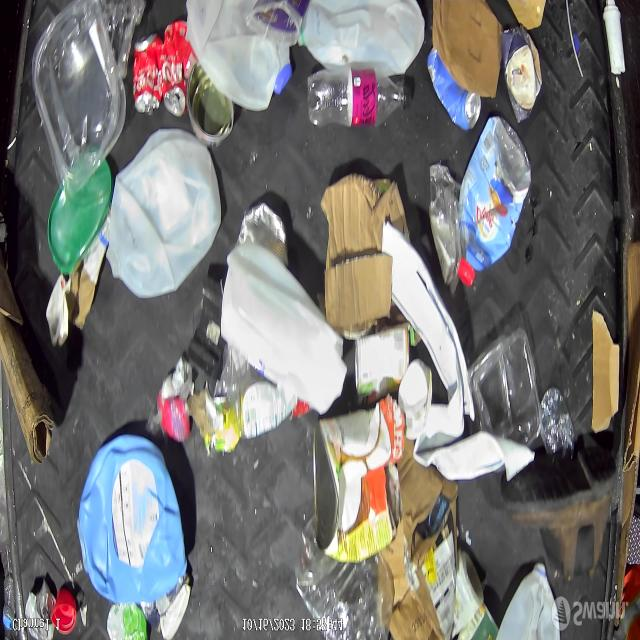can: (312, 398, 400, 560), (428, 45, 483, 130), (354, 323, 411, 403), (186, 60, 235, 149), (238, 200, 290, 268), (164, 20, 190, 119), (134, 32, 164, 116), (25, 579, 55, 640)
milk_jug: (221, 241, 348, 415), (106, 129, 222, 302), (185, 0, 293, 113), (297, 0, 426, 78), (496, 561, 561, 640)
non_white_jug: (77, 434, 187, 604)
plastic_bottle: (458, 115, 532, 288), (296, 515, 394, 640), (308, 68, 412, 128), (540, 388, 576, 458), (3, 576, 16, 640)
